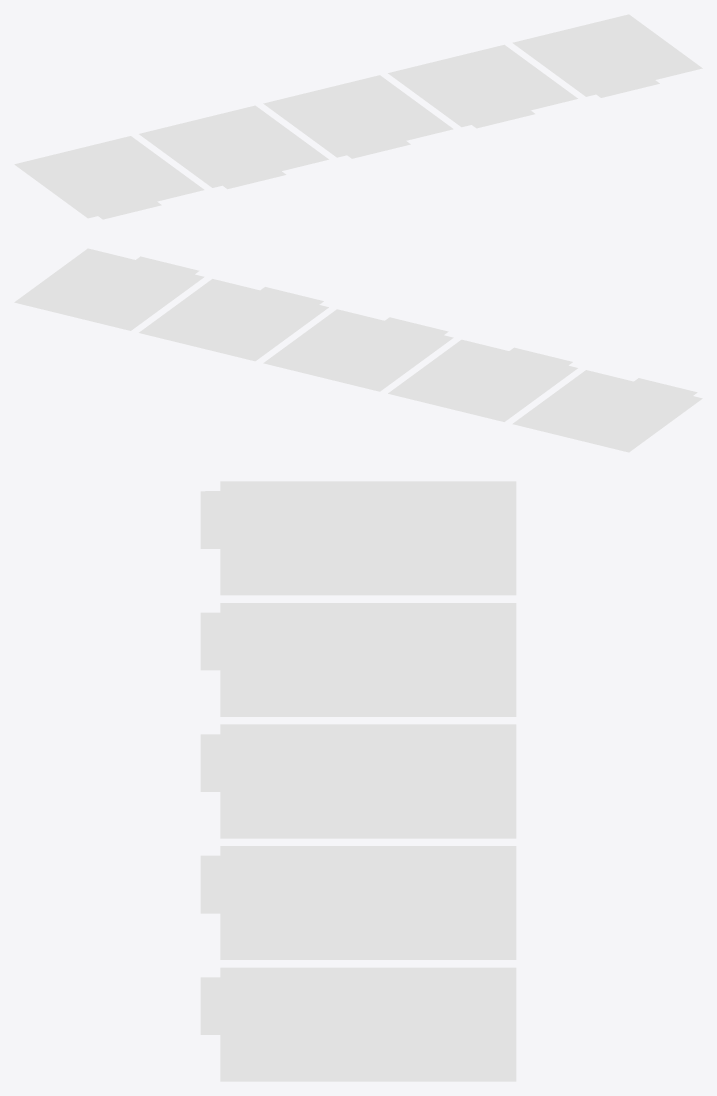
File: Quarters_Floor_02.fbx
3 views of the same model, one above another, from view 1: azimuth 30°, elevation 25°; view 2: azimuth 150°, elevation 25°; view 3: azimuth 270°, elevation 25° (orthographic). The views are drawn at different scales.
Parts seen in each view (by area): view 1: Quarters_Floor_02; view 2: Quarters_Floor_02; view 3: Quarters_Floor_02.
Boxes of the visible parts, bbox=[...] form: Quarters_Floor_02: bbox=[14, 14, 702, 219]; Quarters_Floor_02: bbox=[14, 248, 702, 452]; Quarters_Floor_02: bbox=[200, 481, 516, 1081].
Bounding box in the file's own units: 7200 × 0.000119 × 1600.
